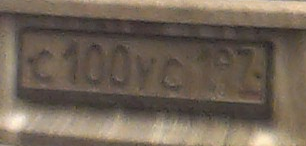character: (83, 35, 108, 87), (110, 36, 133, 88), (213, 40, 236, 90), (61, 35, 83, 86), (29, 45, 56, 84), (158, 53, 184, 93), (236, 40, 255, 93), (133, 52, 155, 95), (194, 43, 214, 90)
